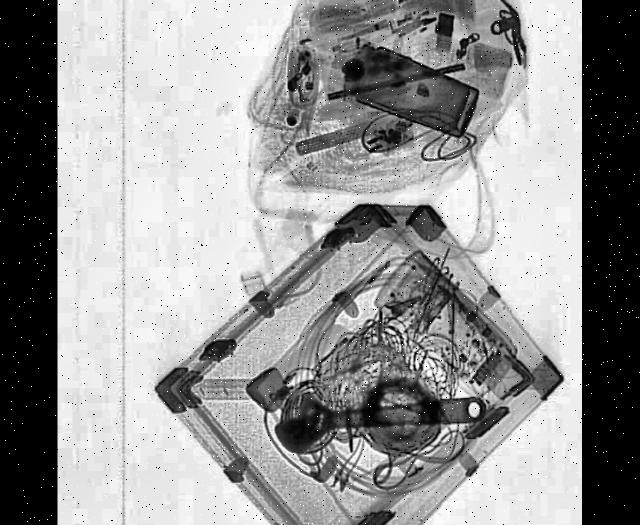Wrench: (272, 379, 486, 456)
